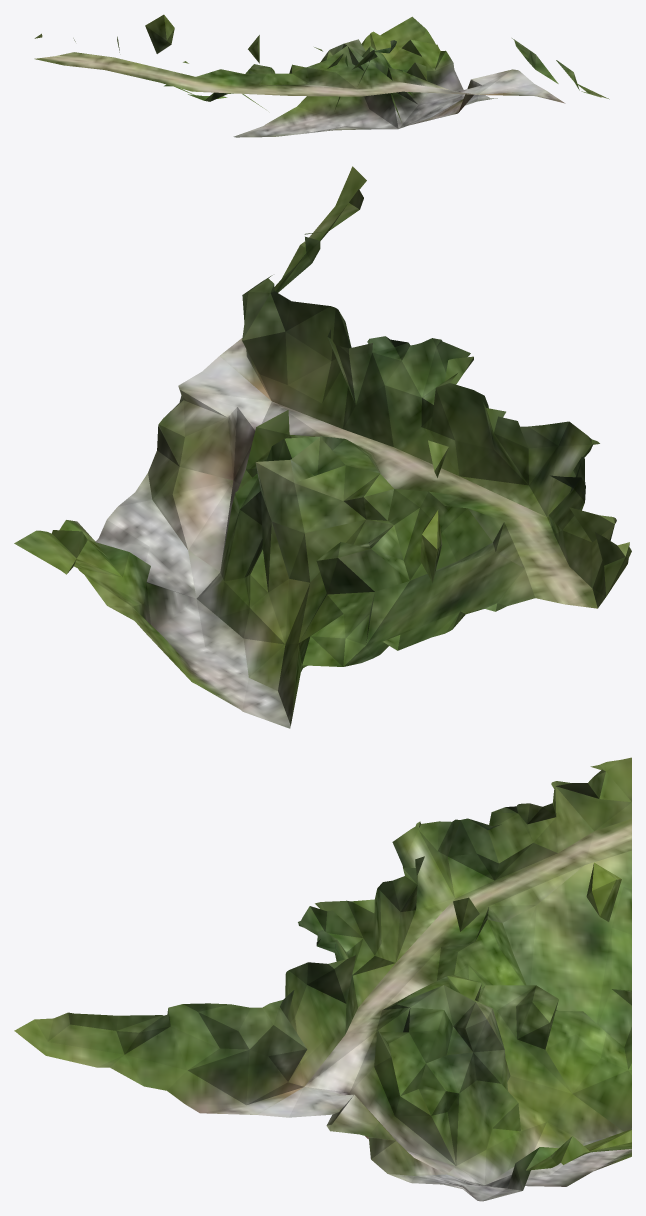
The picture shows the model from 3 angles, top to bottom: view 1: azimuth 30°, elevation 25°; view 2: azimuth 150°, elevation 25°; view 3: azimuth 270°, elevation 25°; orthographic projection. The views are drawn at different scales.
Size of the model in its own units: 112 by 42.97 by 107.
1 material, 1 textured.
